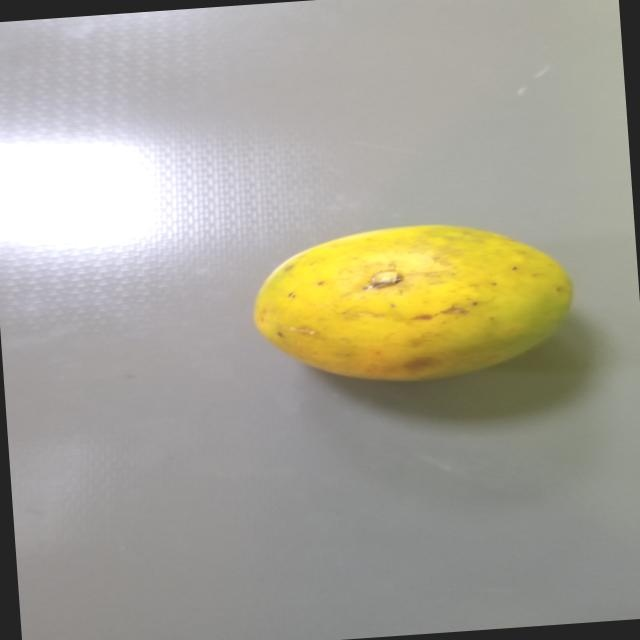agrume: (226, 209, 596, 404)
